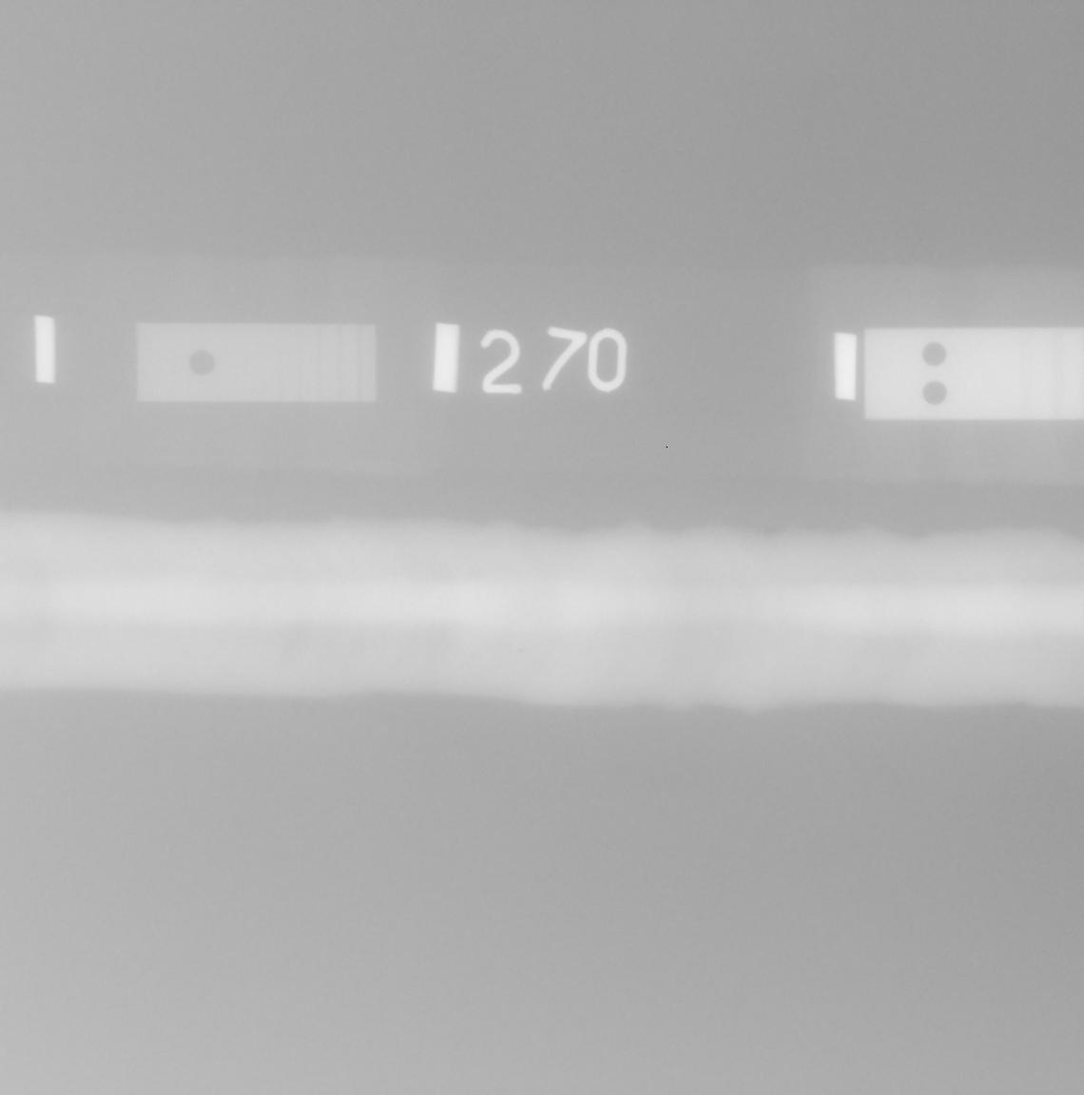Pore/Porosity: (518, 647, 525, 655), (864, 648, 870, 654)
Reference Standard 1: (136, 322, 376, 402)
